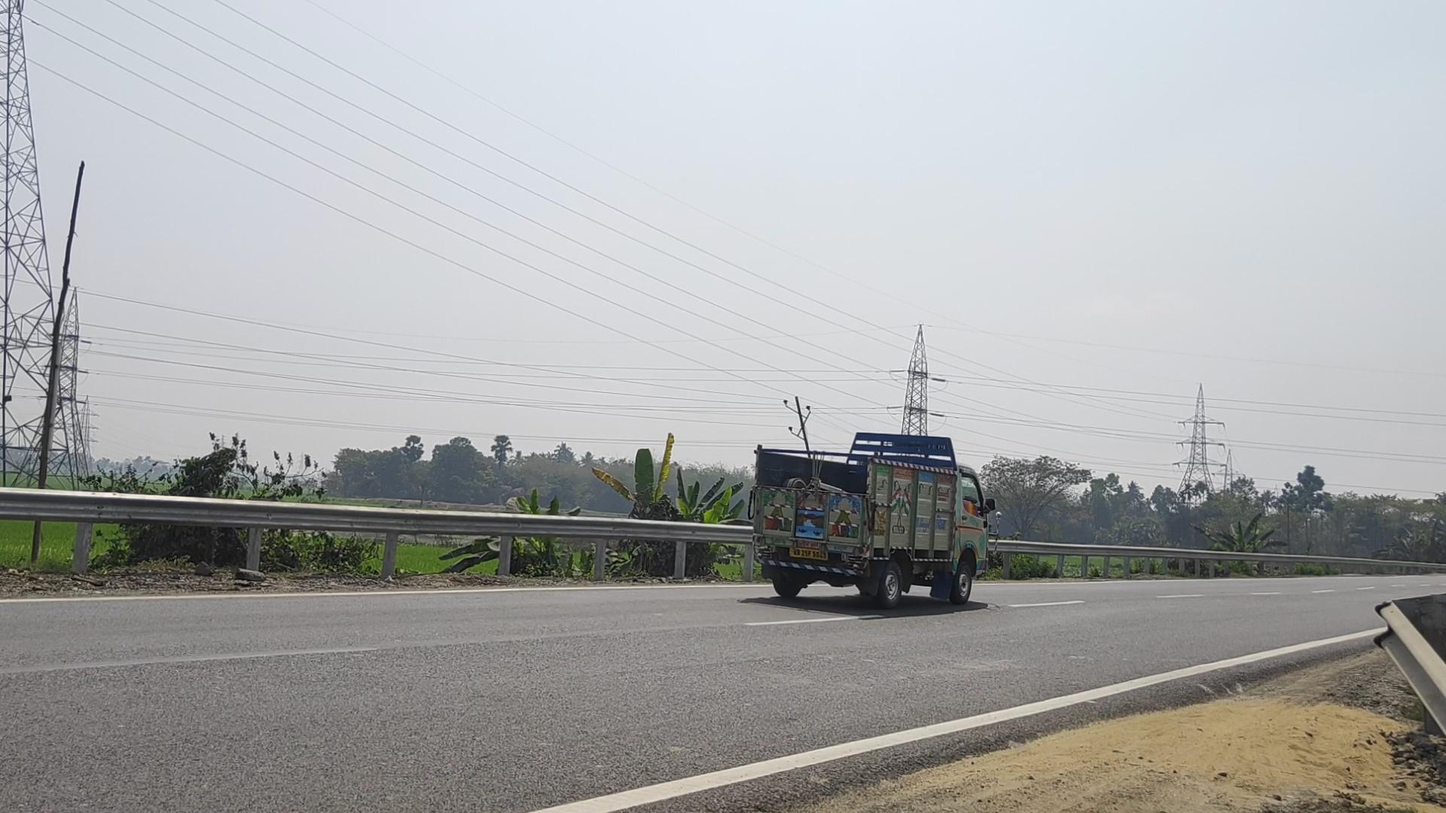van: (750, 432, 1002, 610)
